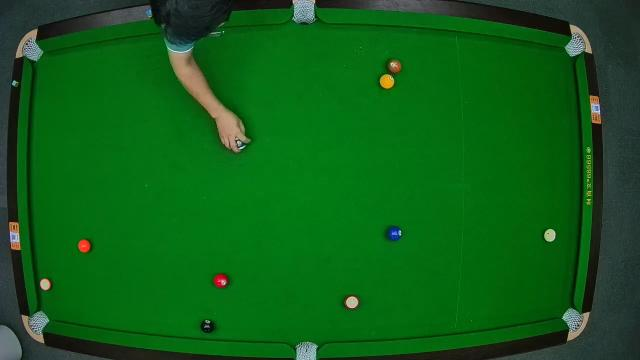bag1: (21, 38, 41, 60)
bag2: (292, 0, 318, 26)
bag3: (567, 34, 587, 54)
bag4: (28, 309, 48, 335)
bag5: (294, 339, 317, 360)
bag6: (564, 309, 584, 331)
ball0: (544, 228, 556, 244)
ball1: (380, 74, 396, 88)
ball11: (344, 294, 361, 310)
ball12: (40, 277, 52, 291)
ball2: (386, 225, 402, 241)
ball3: (214, 274, 228, 288)
ball5: (78, 240, 92, 255)
ball7: (386, 58, 402, 74)
ball8: (200, 318, 213, 334)
